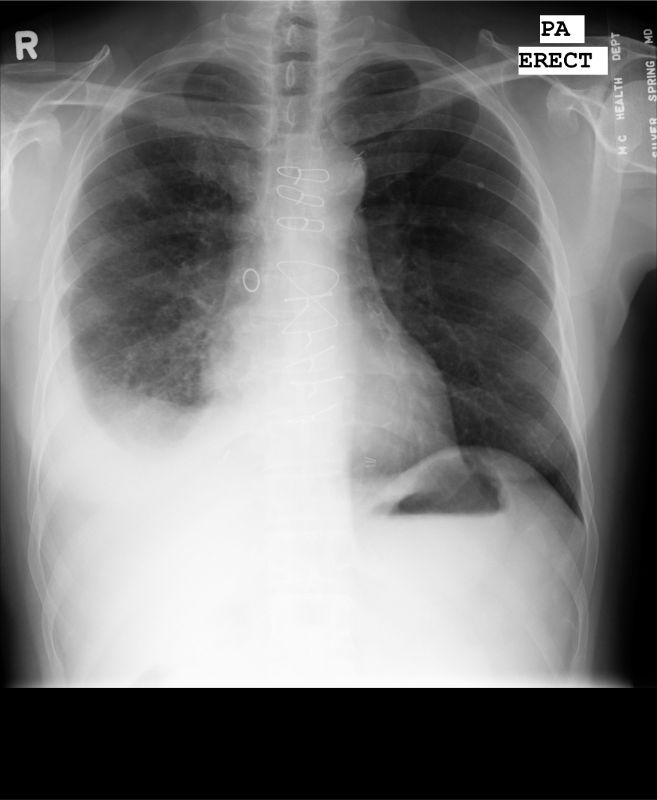Pleural Effusion: (24, 333, 118, 560)
